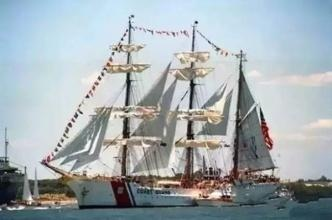fanchuan: (44, 18, 281, 210)
